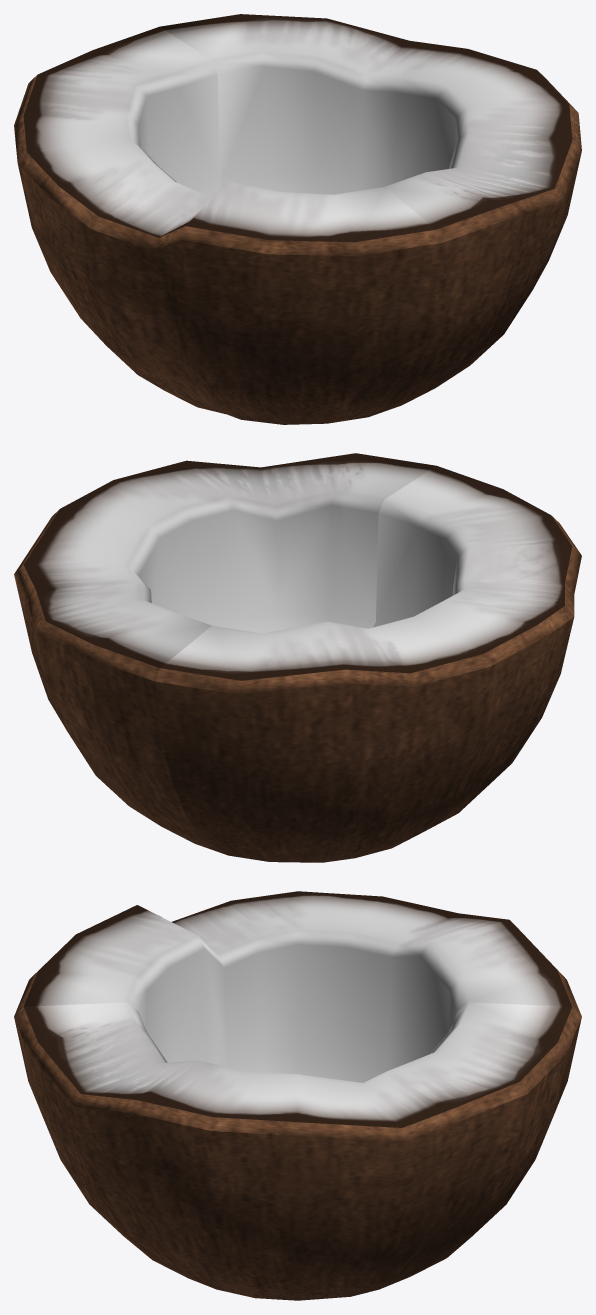
The model's file is Coconut_Slices.fbx.
3 renders of one model, top to bottom at view 1: azimuth 30°, elevation 25°; view 2: azimuth 150°, elevation 25°; view 3: azimuth 270°, elevation 25°, orthographic.
Parts seen in each view (by area): view 1: Coconut_Slice.0, Coconut_Slice.1; view 2: Coconut_Slice.0, Coconut_Slice.1; view 3: Coconut_Slice.1, Coconut_Slice.0.
Boxes of the visible parts, x1=… form: Coconut_Slice.0: x1=14, y1=26, x2=441, y2=424; Coconut_Slice.1: x1=160, y1=14, x2=581, y2=416; Coconut_Slice.0: x1=155, y1=466, x2=581, y2=862; Coconut_Slice.1: x1=14, y1=453, x2=436, y2=855; Coconut_Slice.1: x1=14, y1=1002, x2=581, y2=1300; Coconut_Slice.0: x1=14, y1=891, x2=581, y2=1082.
Bounding box in the file's own units: 49.89 × 28.09 × 50.1.
